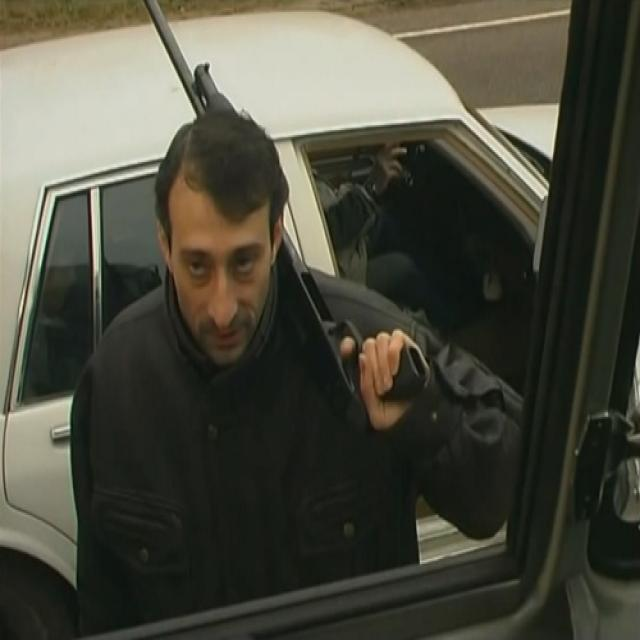rifle: (142, 1, 434, 428)
